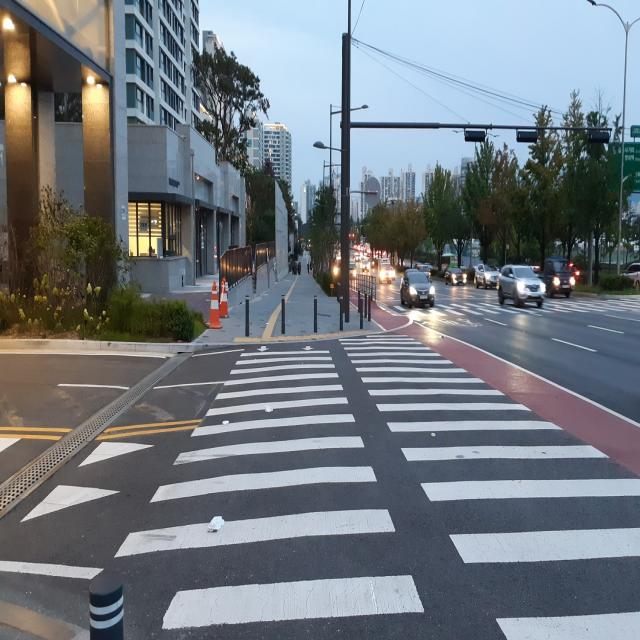횡단보도: (113, 336, 639, 640), (420, 302, 638, 312)
